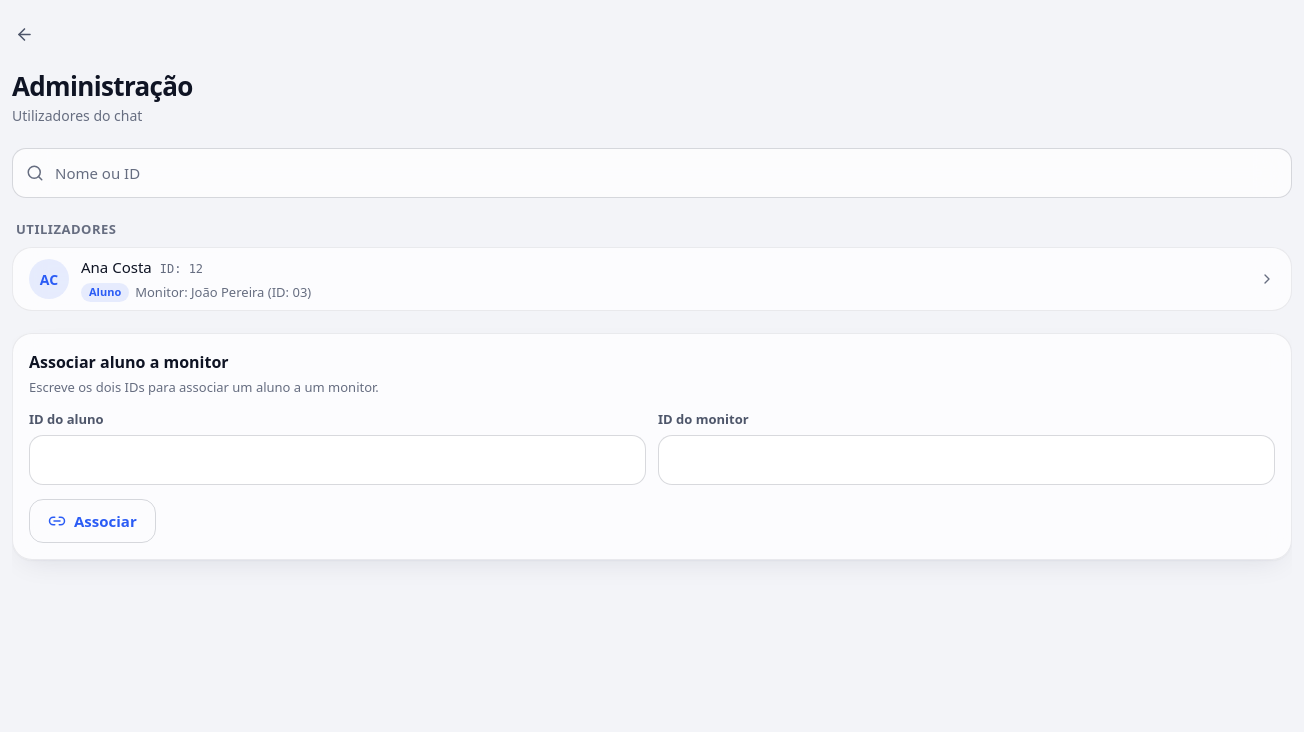
Test case: AdminPage › assigns a student to a monitor by IDs
In the field labelled "ID do aluno": (338, 460) [29, 435, 646, 485], type "12"
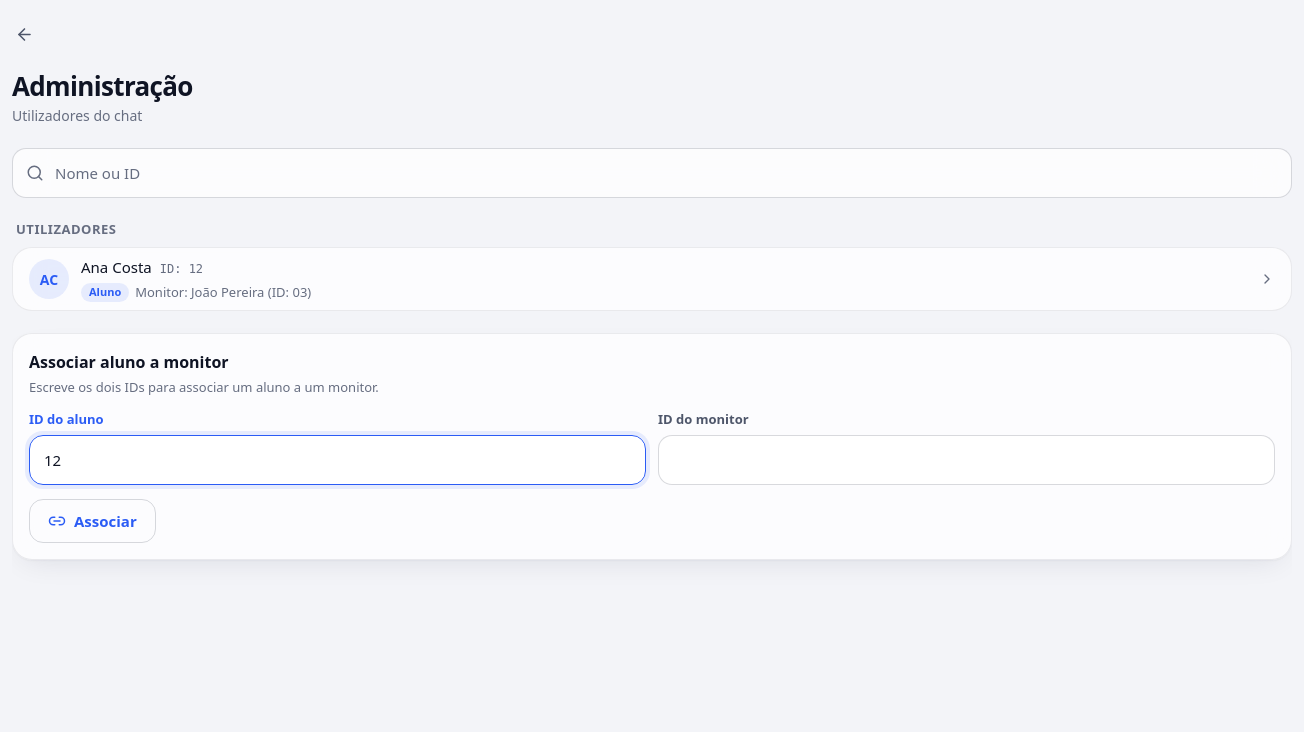
In the field labelled "ID do monitor": (966, 460) [658, 435, 1275, 485], type "ID 3"
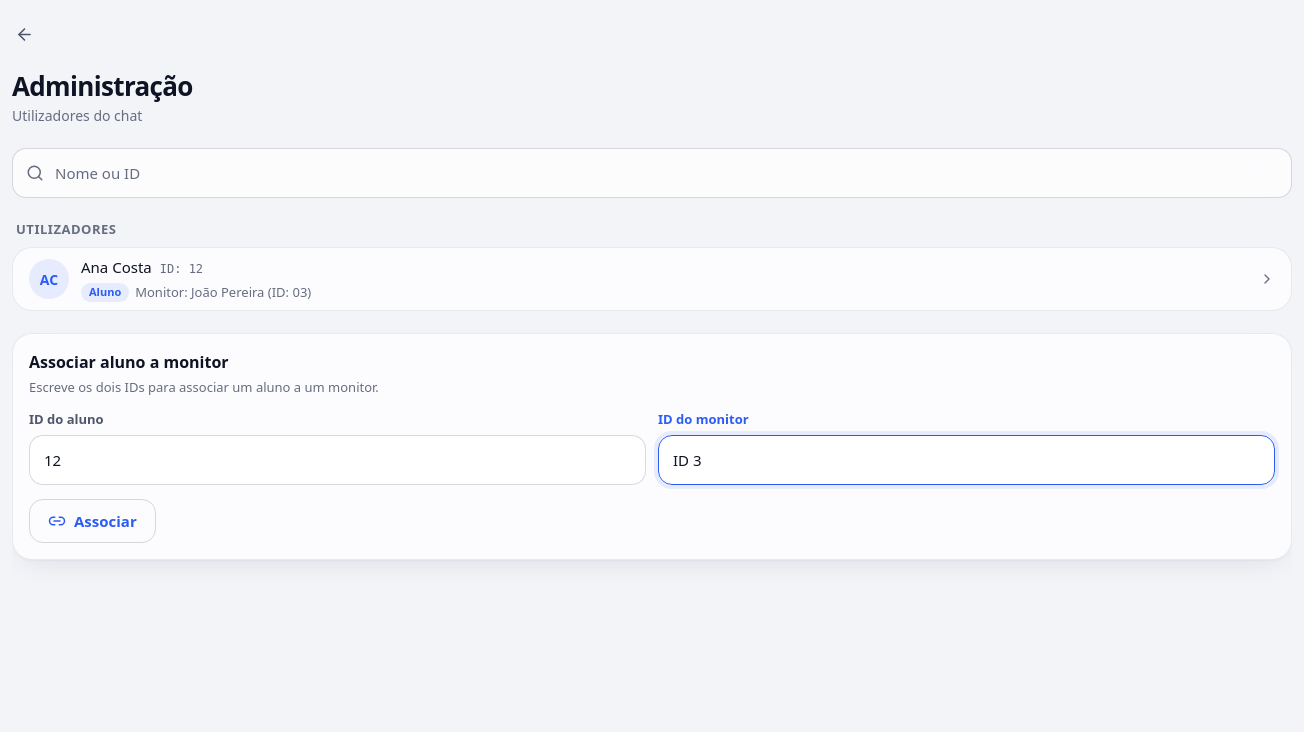
Click the button "Associar": click(92, 521) [29, 499, 156, 543]
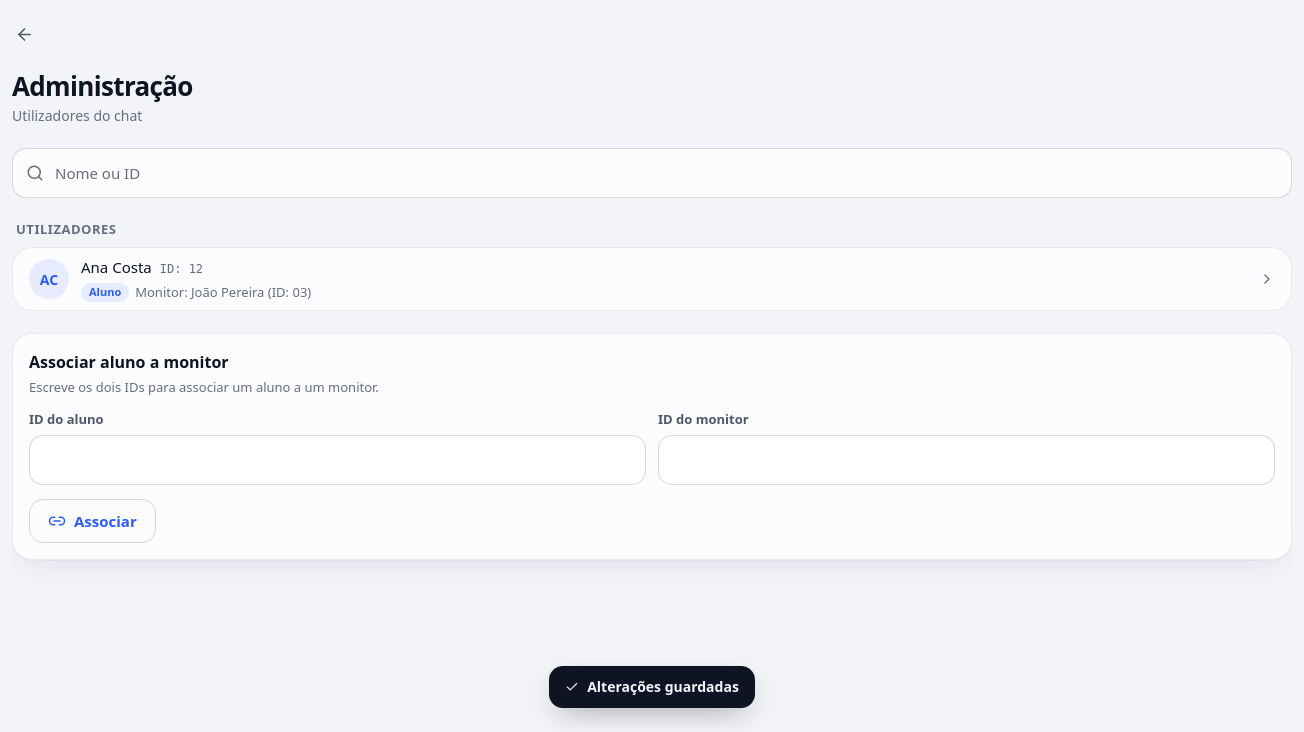
Expected: the text "Alterações guardadas" is shown, [587, 677, 739, 697]
